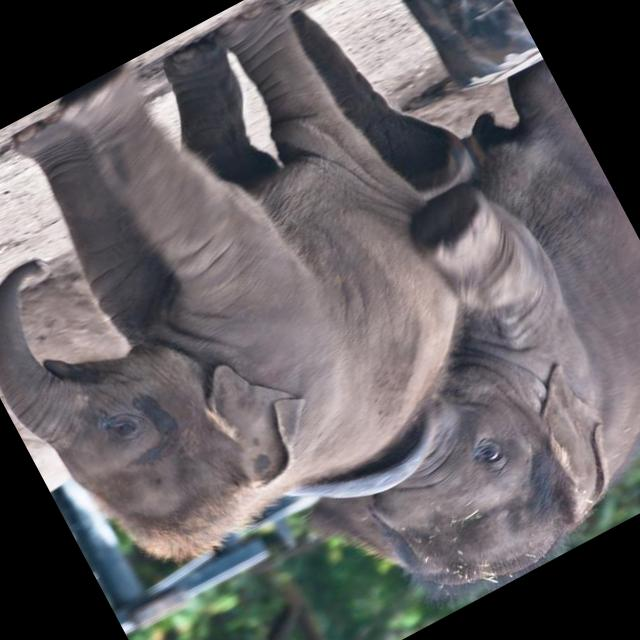elephant: (97, 0, 640, 638), (0, 0, 524, 603)
